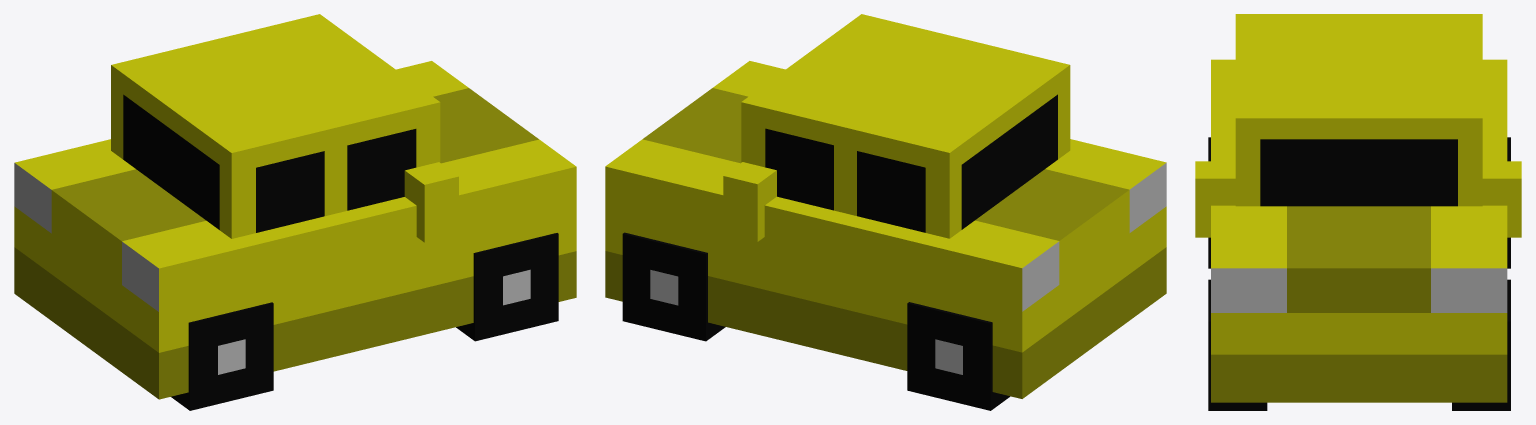
Rendered from CarYellow.fbx.
The picture shows the model from 3 angles, left to right: view 1: azimuth 30°, elevation 25°; view 2: azimuth 150°, elevation 25°; view 3: azimuth 270°, elevation 25°; orthographic projection. The views are drawn at different scales.
Visible parts, largest first — view 1: Car:CarYellow:pCube18; view 2: Car:CarYellow:pCube18; view 3: Car:CarYellow:pCube18.
Part boxes in pixels (left/top/right/bottom): Car:CarYellow:pCube18: left=14, top=14, right=576, bottom=410; Car:CarYellow:pCube18: left=605, top=14, right=1166, bottom=410; Car:CarYellow:pCube18: left=1195, top=14, right=1521, bottom=410.
Size of the model in its own units: 0.7492 by 0.4023 by 0.4955.
